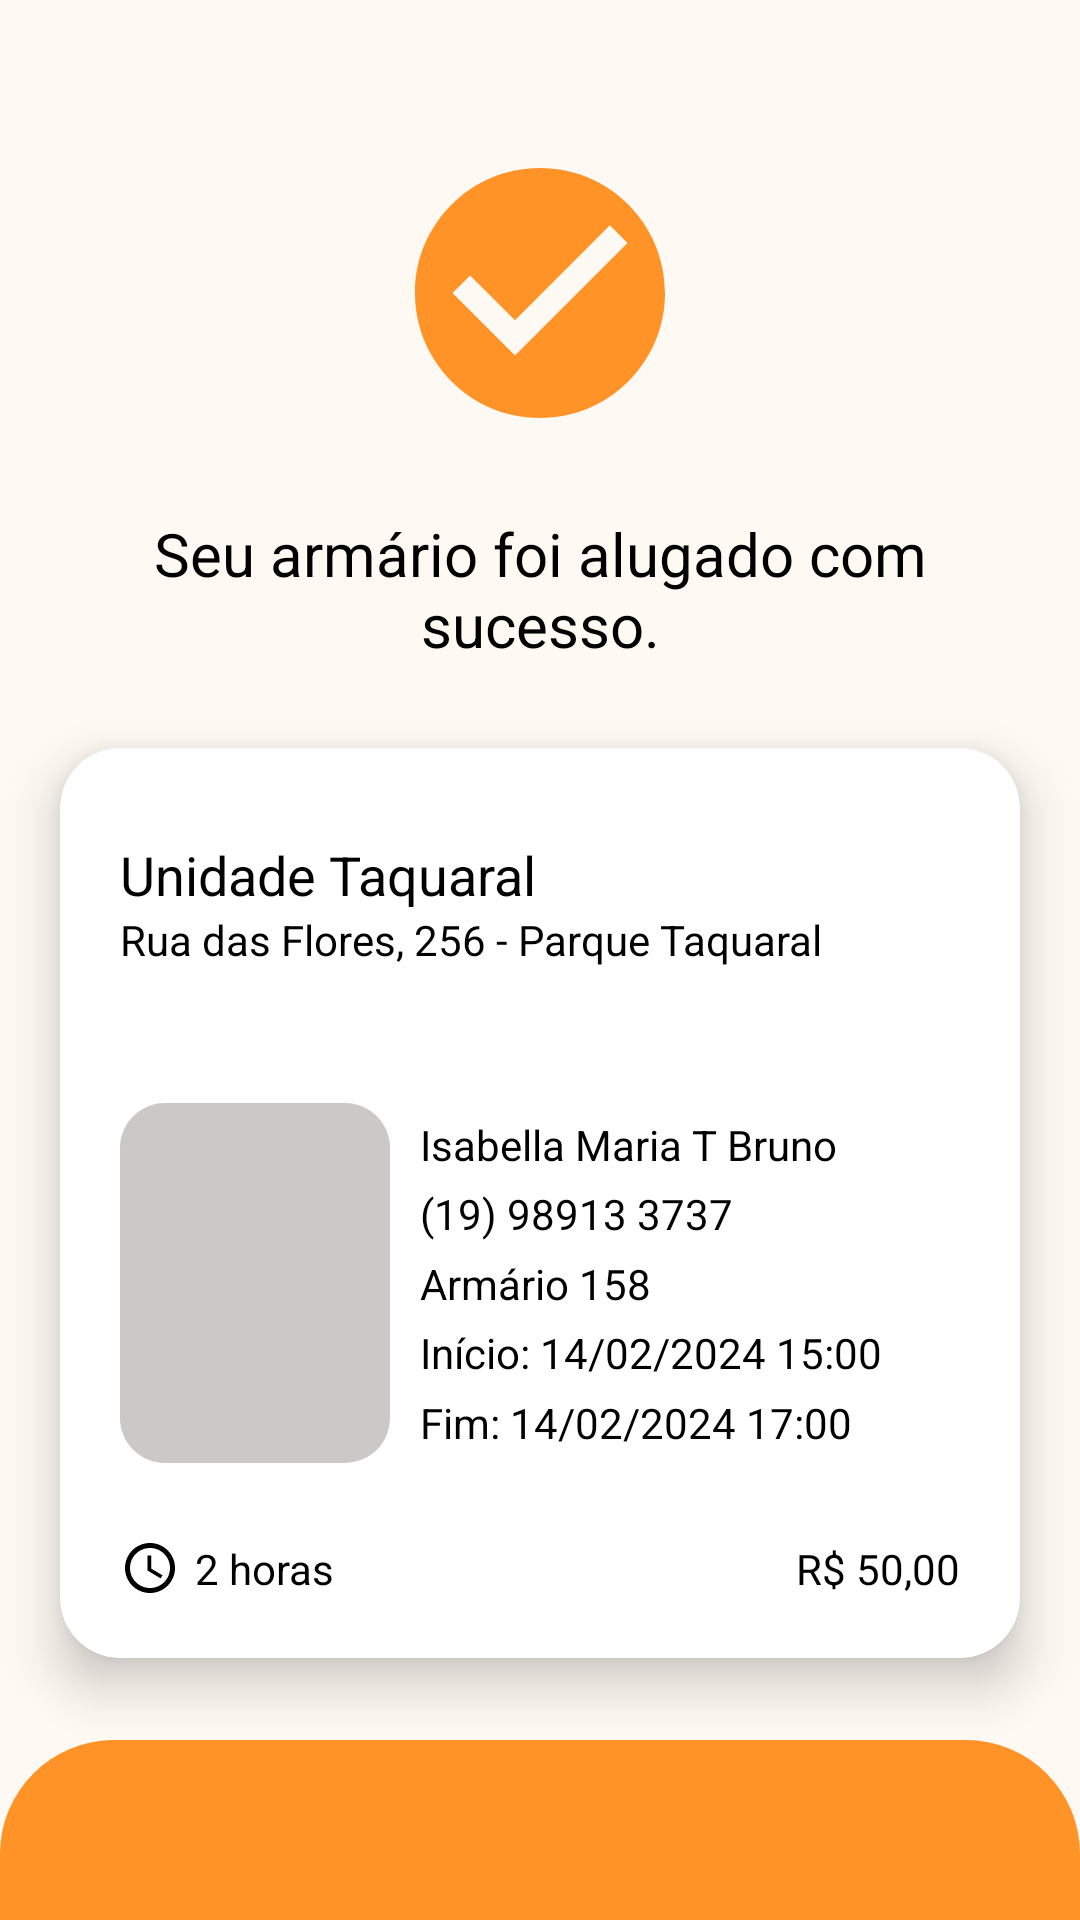

Where icons sit on this 1080w x 1920h app screen, as (x1, y1, x2, y2):
clock: (125, 1543, 175, 1593)
